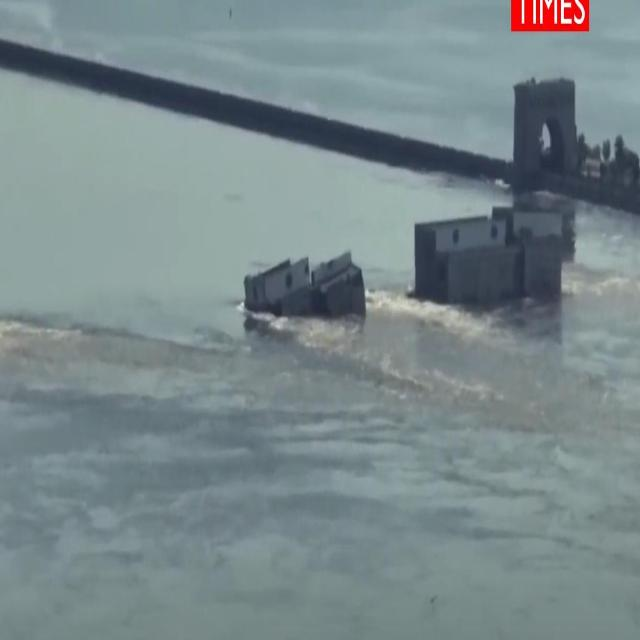flood: (0, 264, 640, 637), (0, 69, 513, 318), (0, 0, 640, 157), (577, 205, 640, 277)
house: (414, 197, 569, 327), (242, 235, 370, 339)
